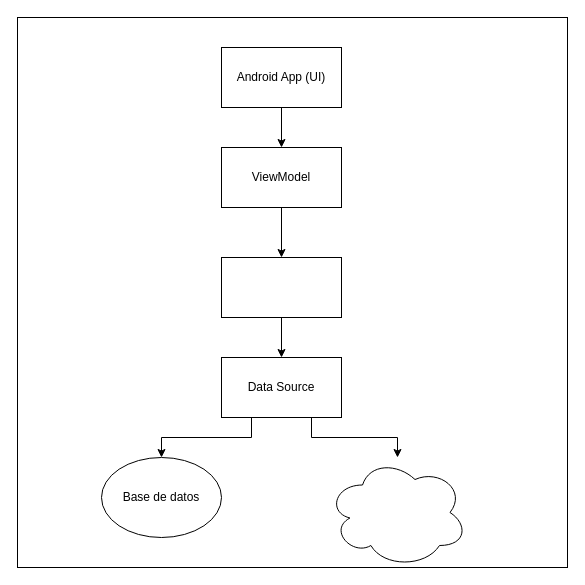
This 585x585 diagram has some shape labels left out. Each missing label, with the centre of its shape:
"API REST" belongs at point (397, 512).
"Repository" belongs at point (281, 287).
